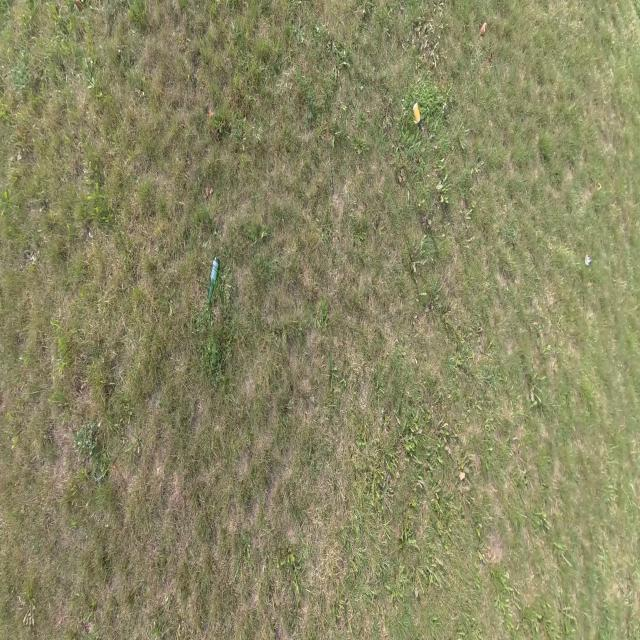rubbish: (207, 256, 220, 306), (409, 99, 421, 124)
